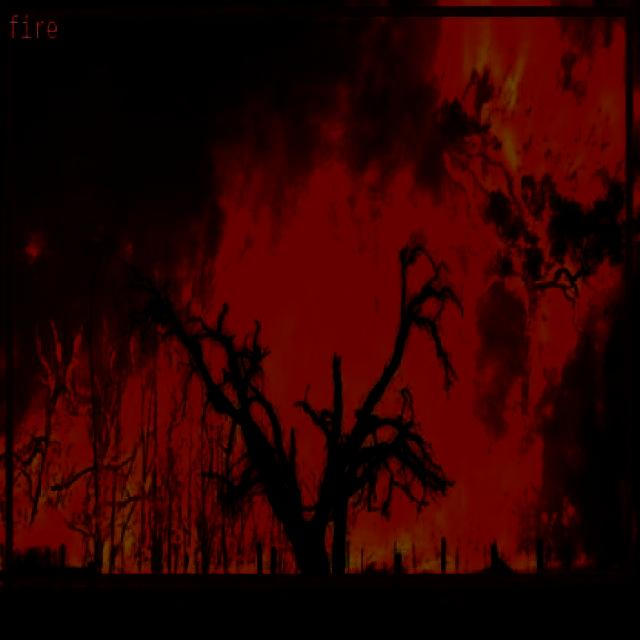fire: (4, 4, 630, 580)
